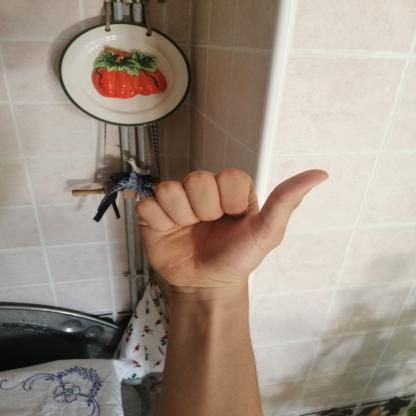DAD: (117, 156, 341, 300)
